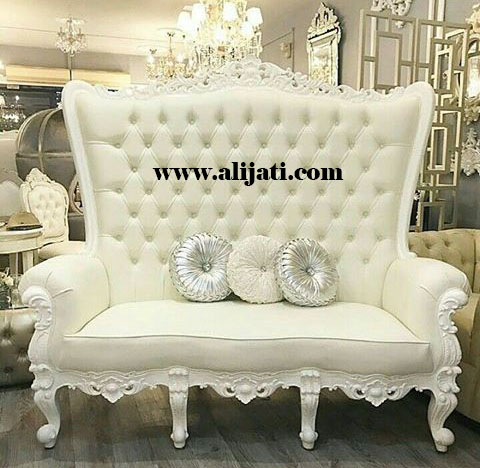Carving Chair: (26, 80, 474, 459)
